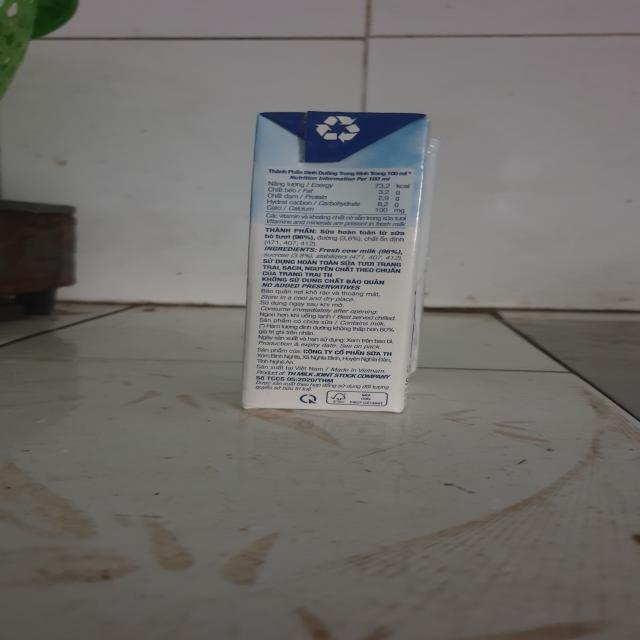TH: (232, 109, 447, 418)
